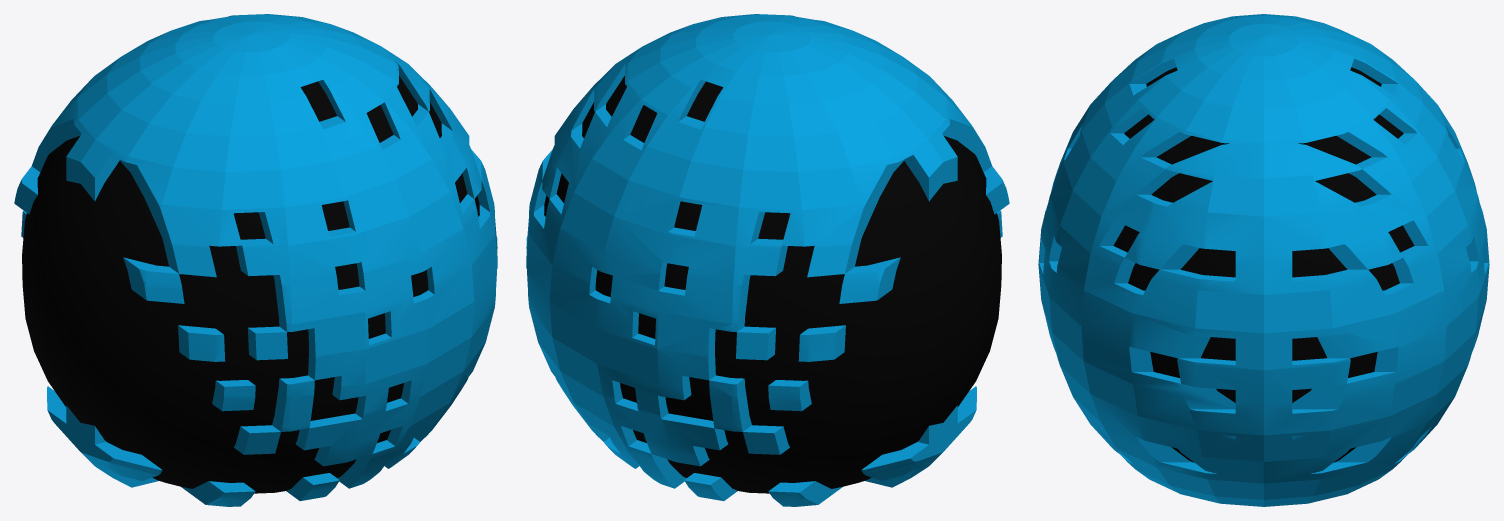
The model's file is br-m-bush_blueA.fbx.
The picture shows the model from 3 angles, left to right: view 1: azimuth 30°, elevation 25°; view 2: azimuth 150°, elevation 25°; view 3: azimuth 270°, elevation 25°; orthographic projection.
Parts seen in each view (by area): view 1: blue, base; view 2: blue, base; view 3: blue, base.
Part boxes in pixels (x1=…): blue: x1=14, y1=14, x2=497, y2=506; base: x1=22, y1=76, x2=479, y2=493; blue: x1=526, y1=14, x2=1009, y2=506; base: x1=544, y1=76, x2=1001, y2=493; blue: x1=1038, y1=14, x2=1489, y2=506; base: x1=1113, y1=67, x2=1414, y2=462.
Size of the model in its own units: 1.07 by 0.9861 by 1.
